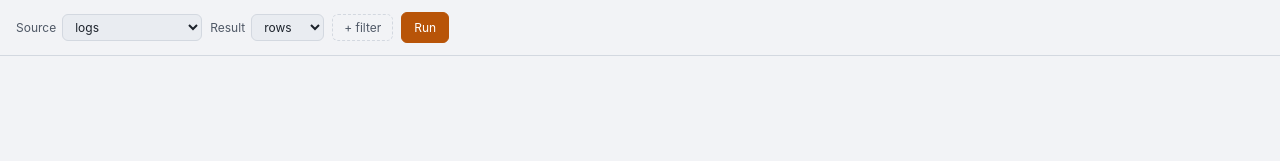
Test case: QueryView › renders the envelope warnings with their suggestions
Click the button "Run": (425, 28) top-left (401, 12), bottom-right (449, 43)
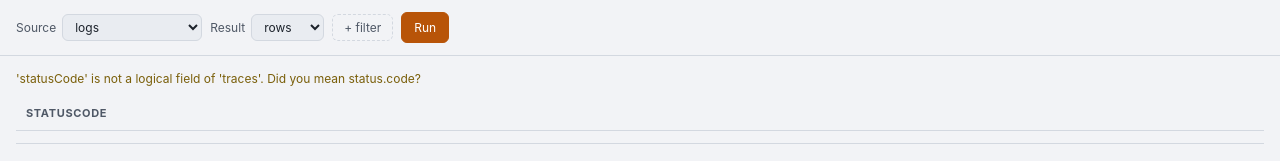
Check: the text "statusCode' is not a logical field" is shown, box top-left (16, 71), bottom-right (264, 86)
Check: the text "Did you mean status.code?" is shown, box top-left (264, 71), bottom-right (421, 86)
